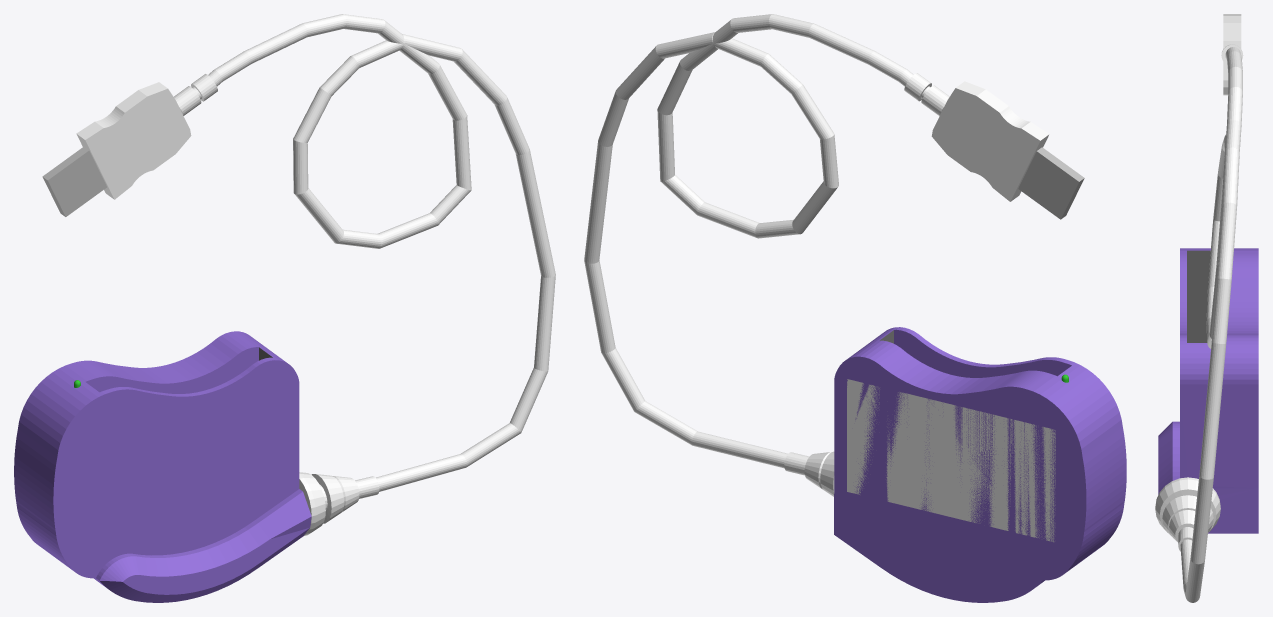
3 views of the same model, side by side, from view 1: azimuth 30°, elevation 25°; view 2: azimuth 150°, elevation 25°; view 3: azimuth 270°, elevation 25° (orthographic). The views are drawn at different scales.
Parts seen in each view (by area): view 1: lexar media trade cf card reader; view 2: lexar media trade cf card reader; view 3: lexar media trade cf card reader.
Boxes of the visible parts, x1,y1,x2,y2 form: lexar media trade cf card reader: (14,14,555,602); lexar media trade cf card reader: (584,14,1126,602); lexar media trade cf card reader: (1155,14,1258,602).
Bounding box in the file's own units: 5.19 × 4.98 × 0.9019.
